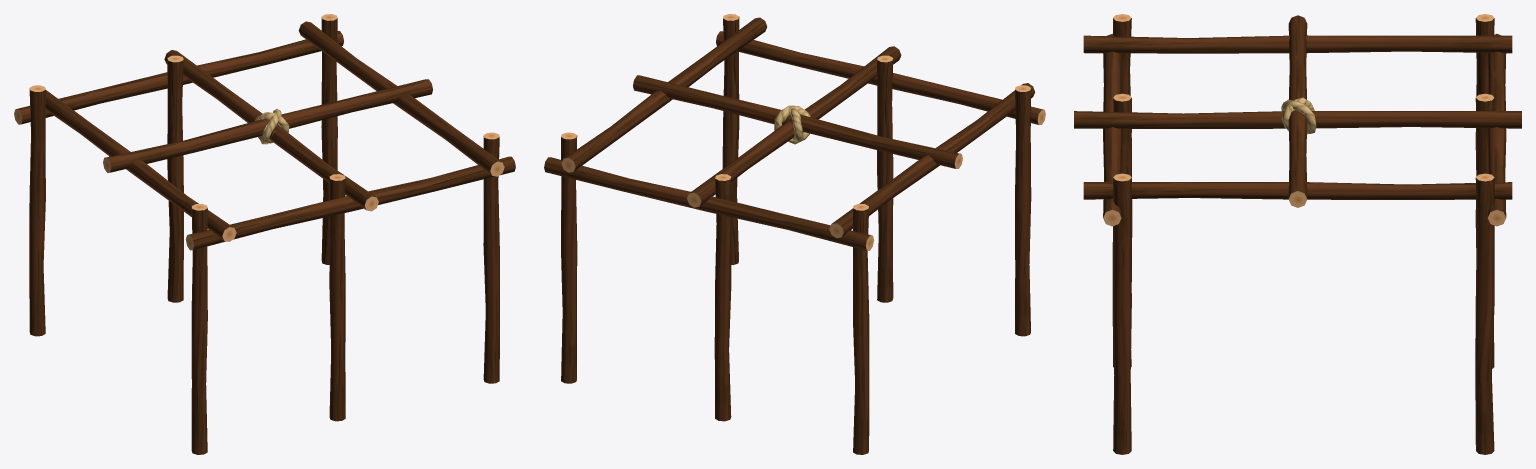
File: OBS0110212.fbx
The picture shows the model from 3 angles, left to right: view 1: azimuth 30°, elevation 25°; view 2: azimuth 150°, elevation 25°; view 3: azimuth 270°, elevation 25°; orthographic projection. The views are drawn at different scales.
Visible parts, largest first — view 1: smOBS0110212; view 2: smOBS0110212; view 3: smOBS0110212.
Part boxes in pixels (x1,y1,x2,y2): smOBS0110212: (14, 14, 515, 454); smOBS0110212: (544, 14, 1045, 454); smOBS0110212: (1074, 14, 1521, 454).
Bounding box in the file's own units: 739 × 540 × 796.
Materials: 1 (1 with a texture image).
